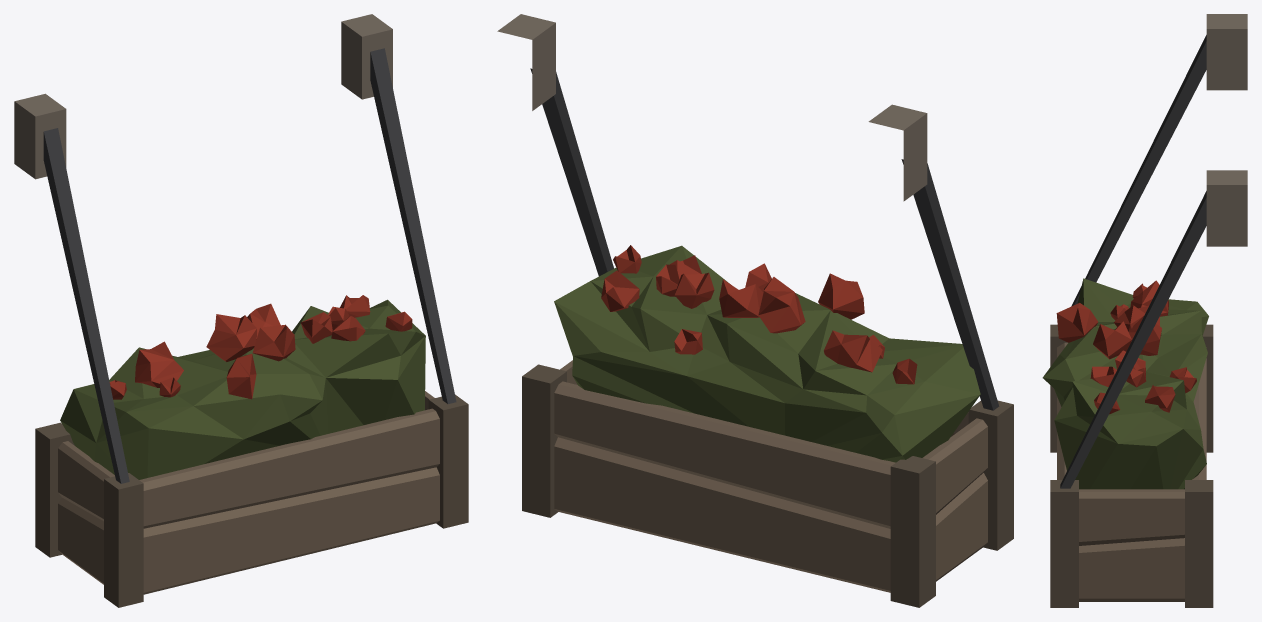
Rendered from SM_Prop_Planter_02.glb.
3 renders of one model, left to right at view 1: azimuth 30°, elevation 25°; view 2: azimuth 150°, elevation 25°; view 3: azimuth 270°, elevation 25°, orthographic. The views are drawn at different scales.
Parts seen in each view (by area): view 1: SM_Prop_Planter_02; view 2: SM_Prop_Planter_02; view 3: SM_Prop_Planter_02.
Boxes of the visible parts, x1,y1,x2,y2 form: SM_Prop_Planter_02: (14,14,468,607); SM_Prop_Planter_02: (497,14,1013,607); SM_Prop_Planter_02: (1042,14,1247,607).
Size of the model in its own units: 0.0144 by 0.0167 by 0.00729.
